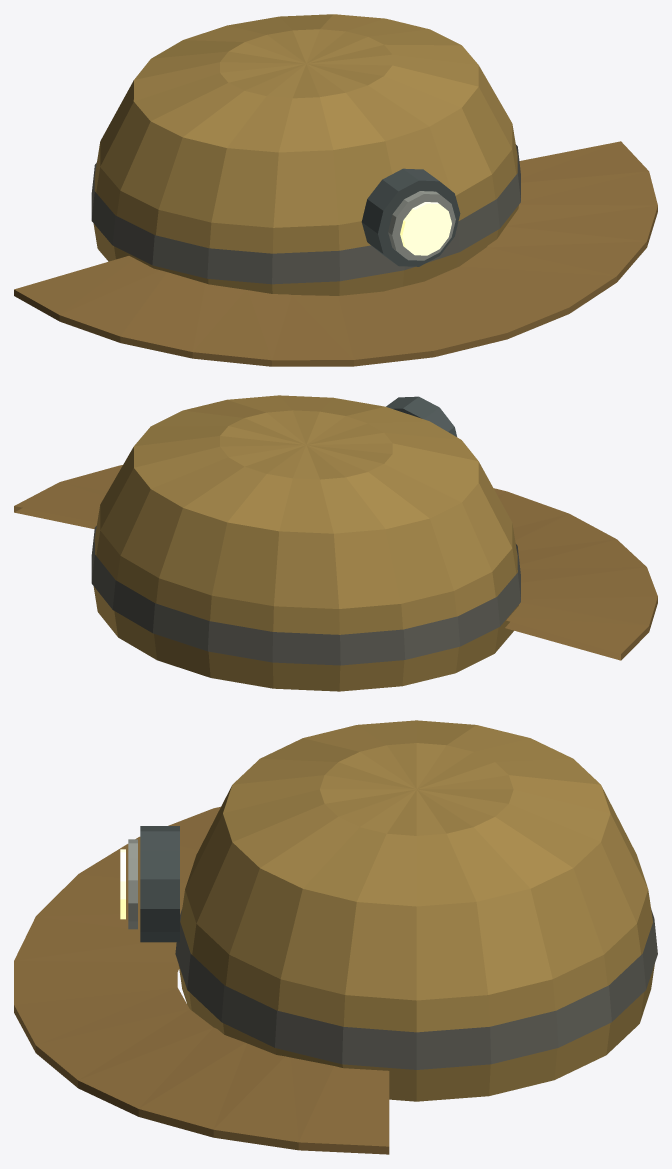
The model's file is hat_miner.glb.
3 renders of one model, top to bottom at view 1: azimuth 30°, elevation 25°; view 2: azimuth 150°, elevation 25°; view 3: azimuth 270°, elevation 25°, orthographic. The views are drawn at different scales.
Visible parts, largest first — view 1: hat_miner, headlamp; view 2: hat_miner; view 3: hat_miner.
Part boxes in pixels (box(x1,y1,x2,y2)): hat_miner: box(14, 14, 657, 366); headlamp: box(400, 202, 451, 255); hat_miner: box(14, 395, 657, 691); hat_miner: box(14, 720, 657, 1154).
Bounding box in the file's own units: 0.78 × 0.2017 × 0.5848.
